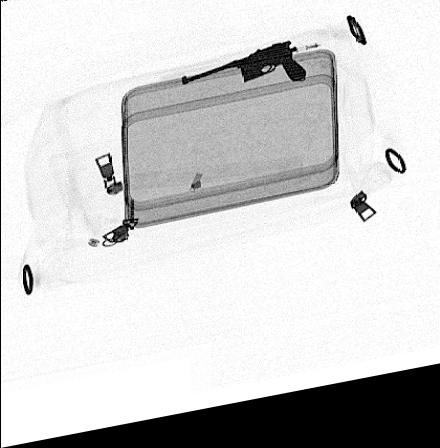Gun: (180, 49, 306, 93)
